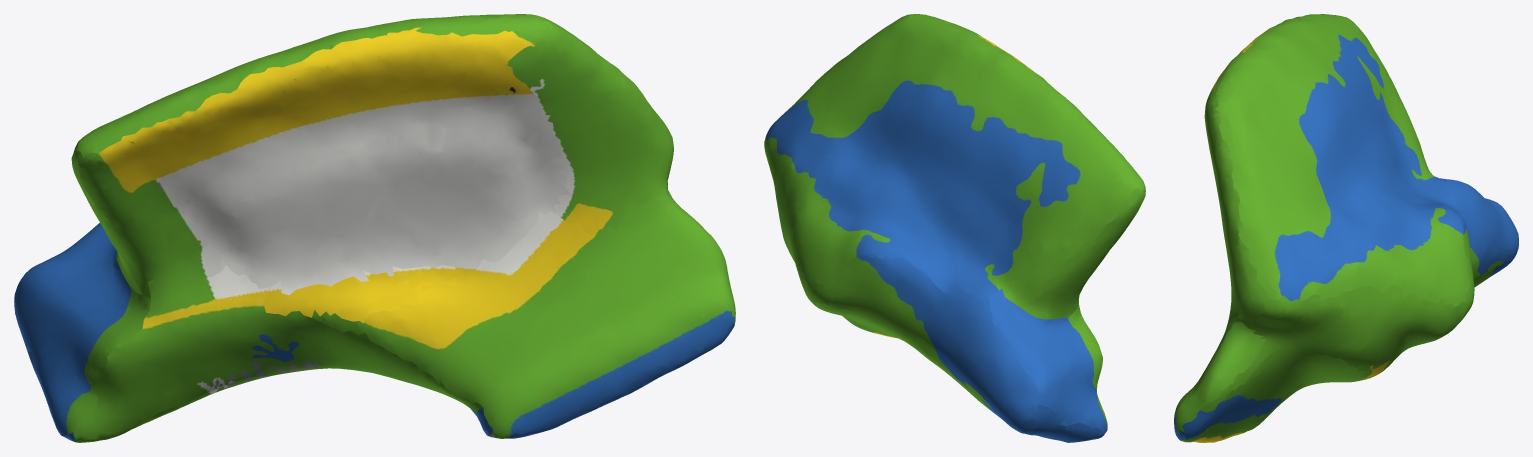
File: level-r-connect.glb
3 views of the same model, side by side, from view 1: azimuth 30°, elevation 25°; view 2: azimuth 150°, elevation 25°; view 3: azimuth 270°, elevation 25° (orthographic). The views are drawn at different scales.
Parts seen in each view (by area): view 1: geometry_0; view 2: geometry_0; view 3: geometry_0.
Part boxes in pixels (<box>): geometry_0: <box>14,14,735,442</box>; geometry_0: <box>764,14,1145,442</box>; geometry_0: <box>1174,14,1518,442</box>.
Size of the model in its own units: 0.9035 by 0.6302 by 0.5861.
1 material, 1 textured.
